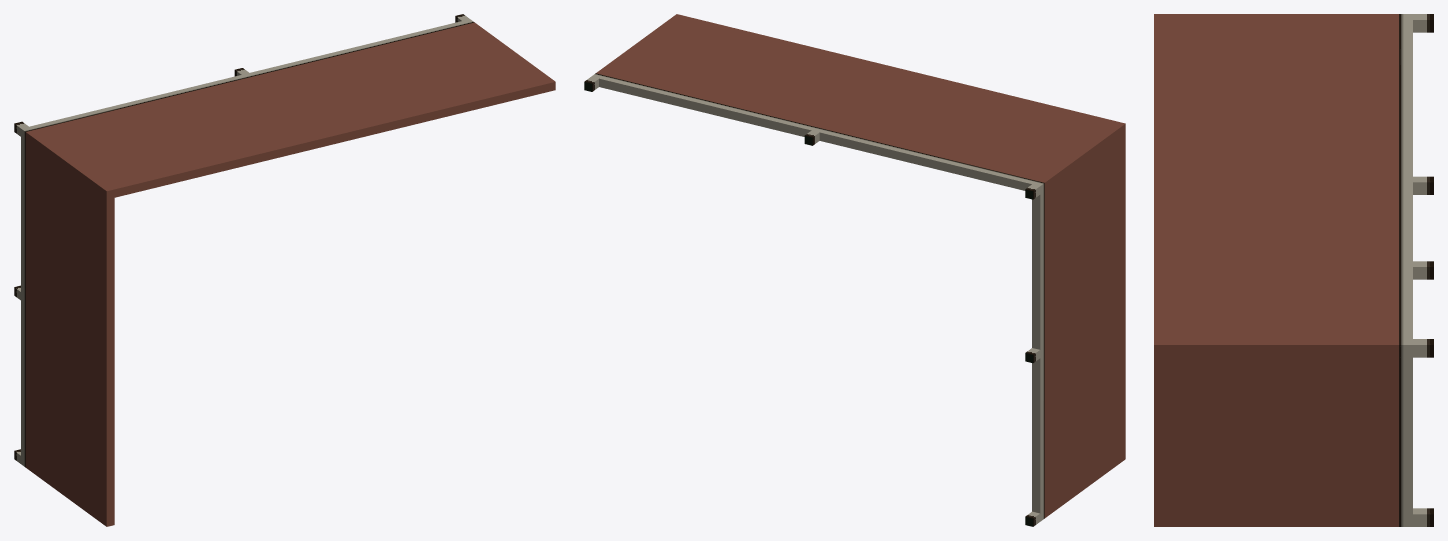
Rendered from prop_partition_01.glb.
3 renders of one model, left to right at view 1: azimuth 30°, elevation 25°; view 2: azimuth 150°, elevation 25°; view 3: azimuth 270°, elevation 25°, orthographic. The views are drawn at different scales.
Visible parts, largest first — view 1: prop_partition_01; view 2: prop_partition_01; view 3: prop_partition_01.
Part boxes in pixels (x1=…): prop_partition_01: x1=14, y1=14, x2=555, y2=526; prop_partition_01: x1=584, y1=14, x2=1125, y2=526; prop_partition_01: x1=1154, y1=14, x2=1433, y2=526.
Size of the model in its own units: 224 by 160 by 80.
Materials: 5 (5 with a texture image).
